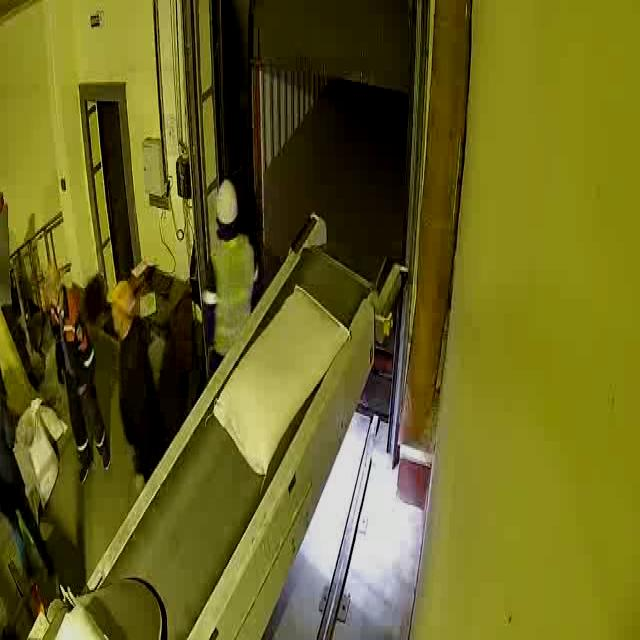bag: (211, 286, 343, 475), (54, 600, 110, 640)
